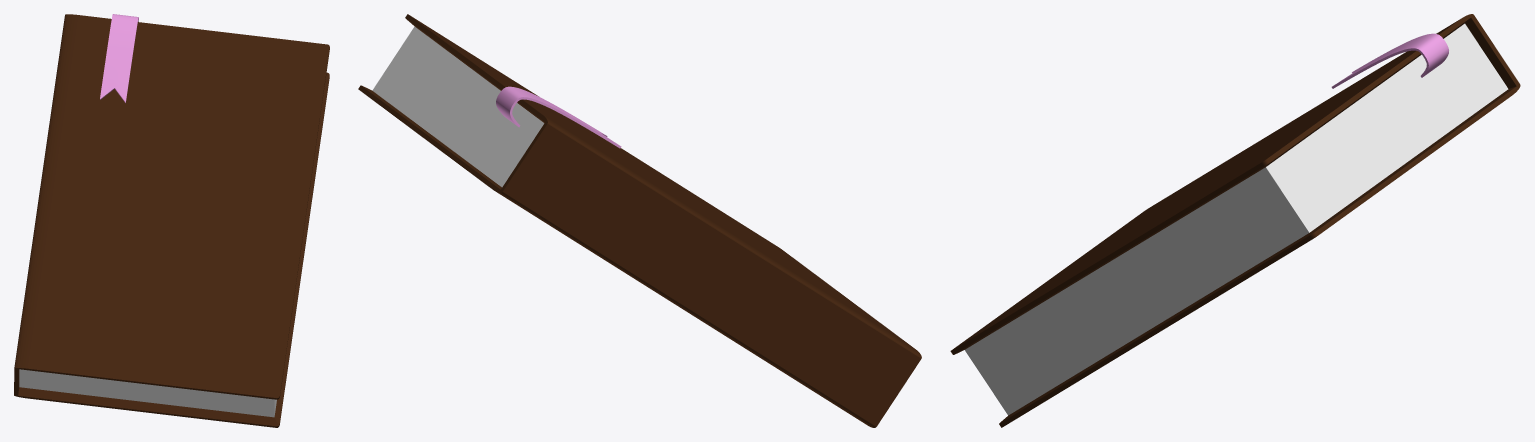
The model's file is wonderin-model.glb.
3 renders of one model, left to right at view 1: azimuth 30°, elevation 25°; view 2: azimuth 150°, elevation 25°; view 3: azimuth 270°, elevation 25°, orthographic. The views are drawn at different scales.
Visible parts, largest first — view 1: Cube.001, Plan; view 2: Cube.001, Plan; view 3: Cube.001, Plan.
Part boxes in pixels (x1,y1,x2,y2): Cube.001: (14,14,329,427); Plan: (100,14,138,102); Cube.001: (358,14,921,427); Plan: (496,86,621,148); Cube.001: (950,14,1520,427); Plan: (1331,33,1448,88).
Bounding box in the file's own units: 0.9917 × 0.7458 × 0.9817.
